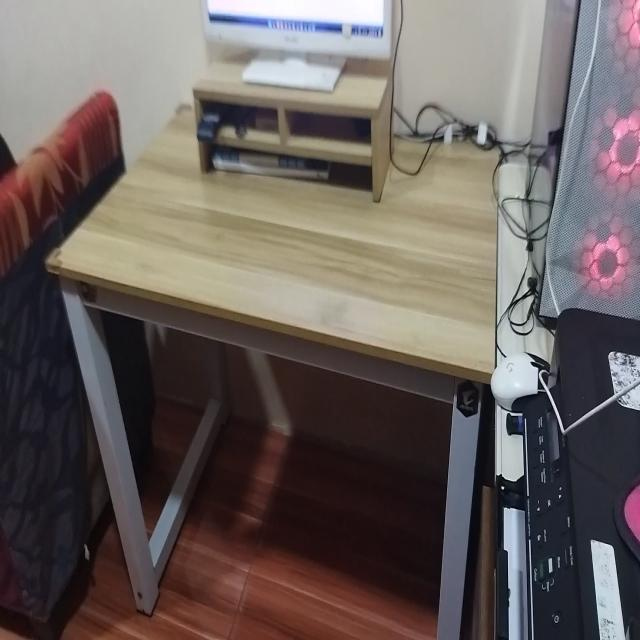table: (61, 86, 497, 640)
